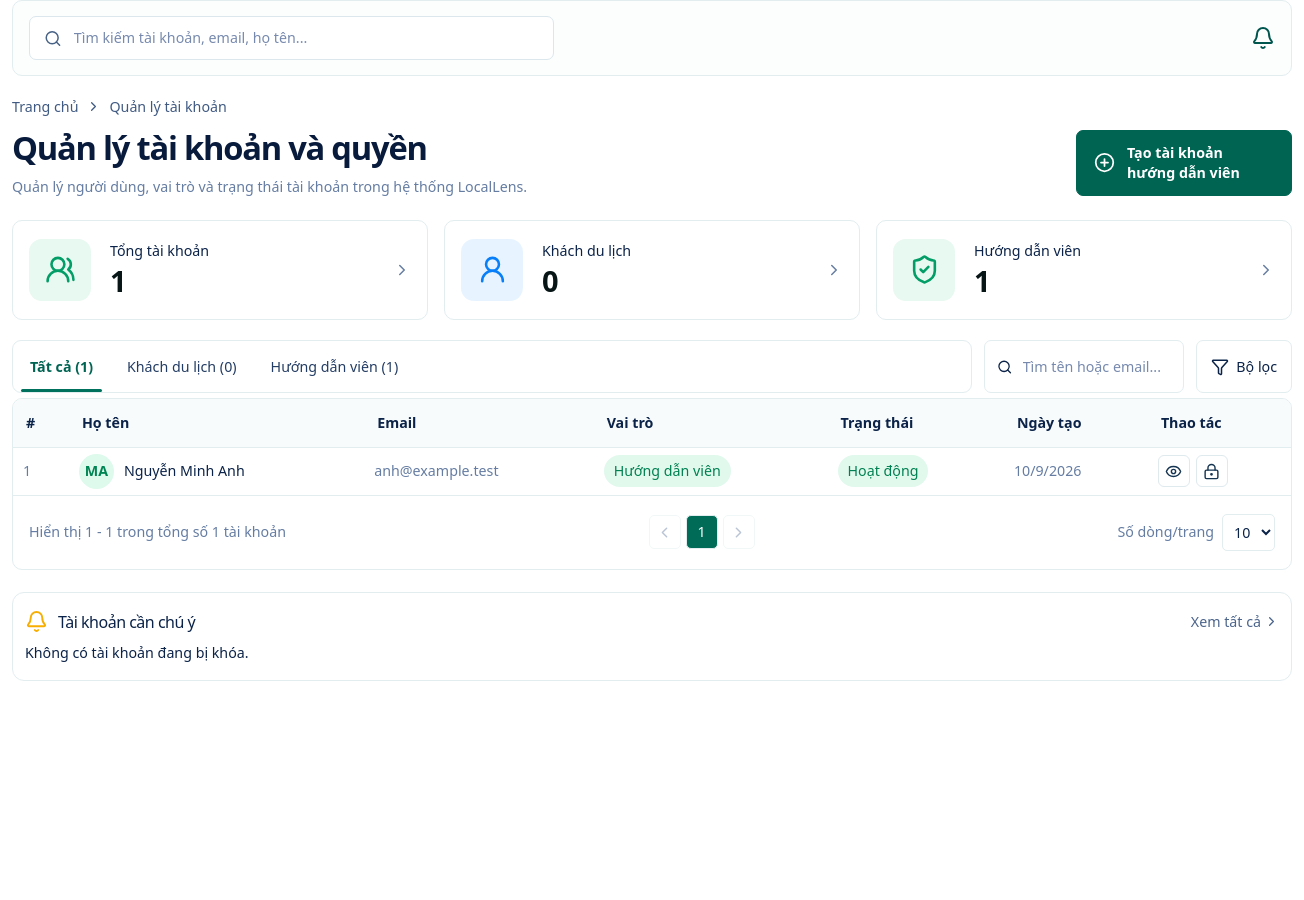
Test case: Admin accounts › filters and shows empty state without the removed role card
The width and height of the screenshot is (1304, 900).
Expected: the text "anh@example.test" is shown, [364,447,594,494]
Type "nobody" into the field with placeholder "Tìm tên hoặc email..." at (1097, 366), box [1023,356,1171,377]
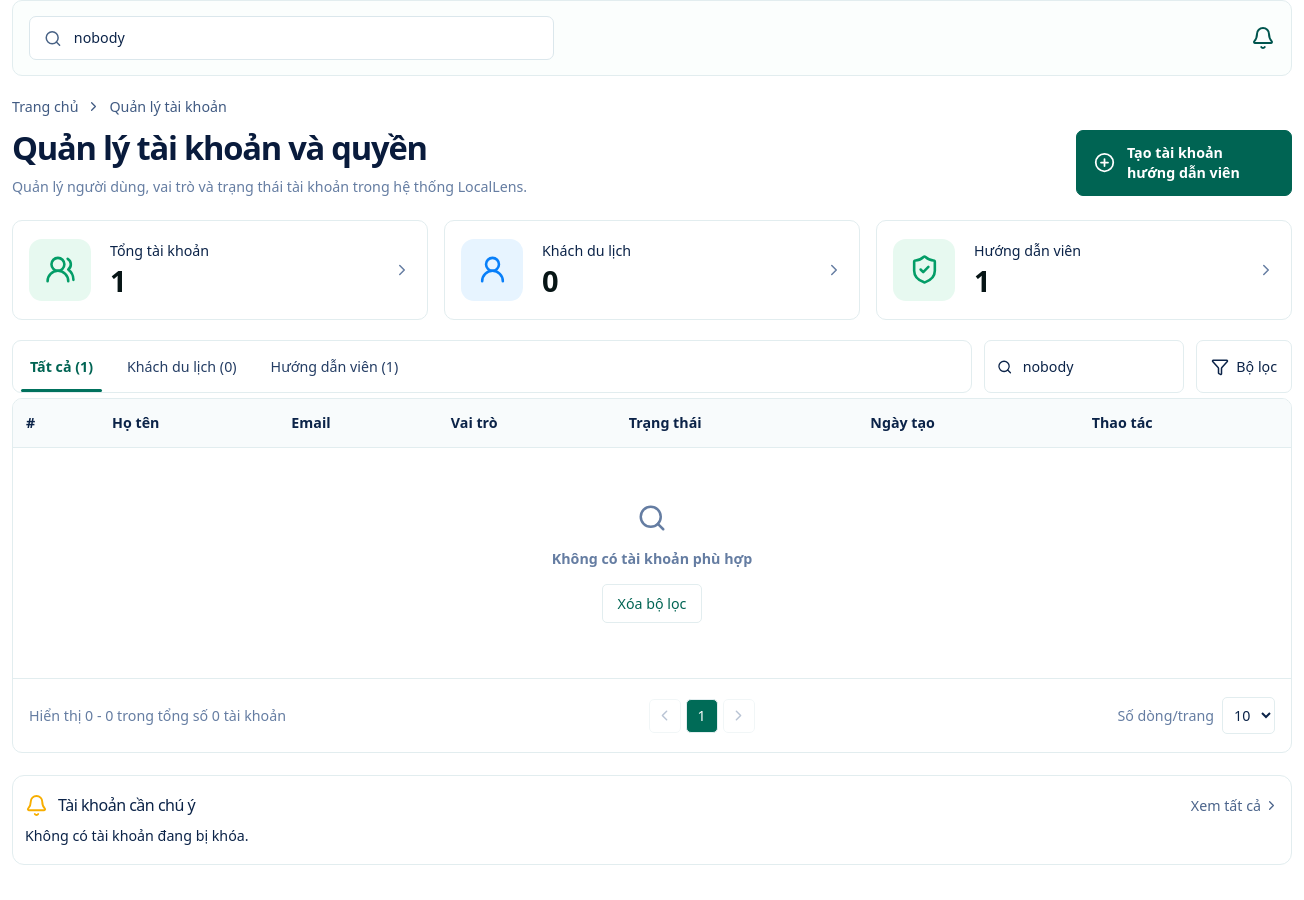
Expected: the text "Không có tài khoản phù hợp" is shown, [552,548,752,569]
